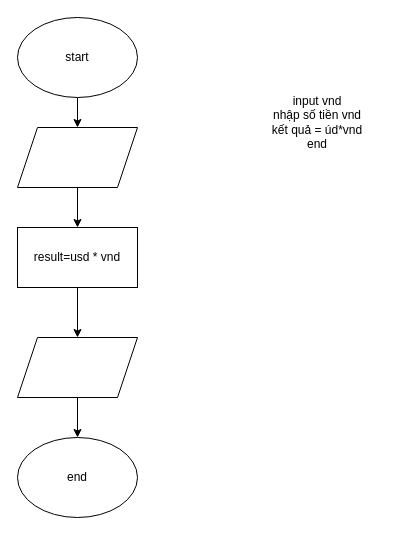
The diagram is 405 pixels wide and 535 high, and some of its shapes have lost their labels. Here are the shapes that lost their labels. From the top down, the centre of each, then its label:
the point at 77,157: input vnd
the point at 77,367: result
